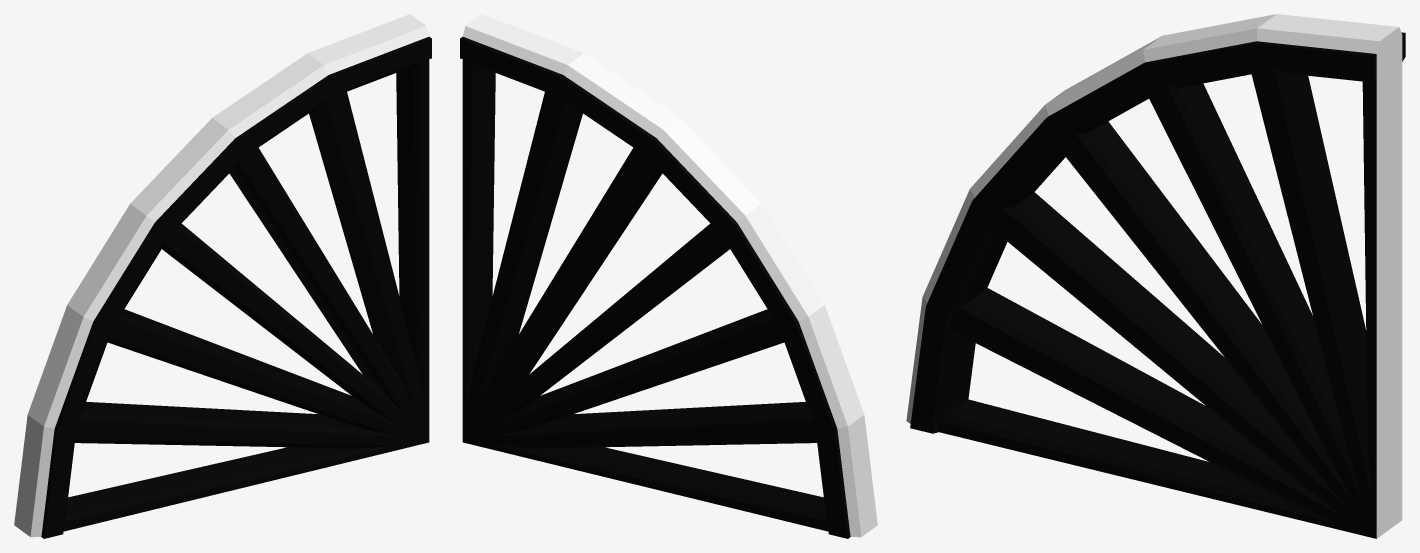
Rendered from SM_Prop_Casino_Sign_Decor_03.fbx.
The picture shows the model from 3 angles, left to right: view 1: azimuth 30°, elevation 25°; view 2: azimuth 150°, elevation 25°; view 3: azimuth 330°, elevation 25°; orthographic projection. The views are drawn at different scales.
Parts seen in each view (by area): view 1: SM_Prop_Casino_Sign_Decor_03; view 2: SM_Prop_Casino_Sign_Decor_03; view 3: SM_Prop_Casino_Sign_Decor_03.
Part boxes in pixels (left/top/right/bottom): SM_Prop_Casino_Sign_Decor_03: left=14, top=14, right=431, bottom=538; SM_Prop_Casino_Sign_Decor_03: left=460, top=14, right=877, bottom=538; SM_Prop_Casino_Sign_Decor_03: left=906, top=14, right=1405, bottom=538.
Size of the model in its own units: 347 by 347 by 40.65.
